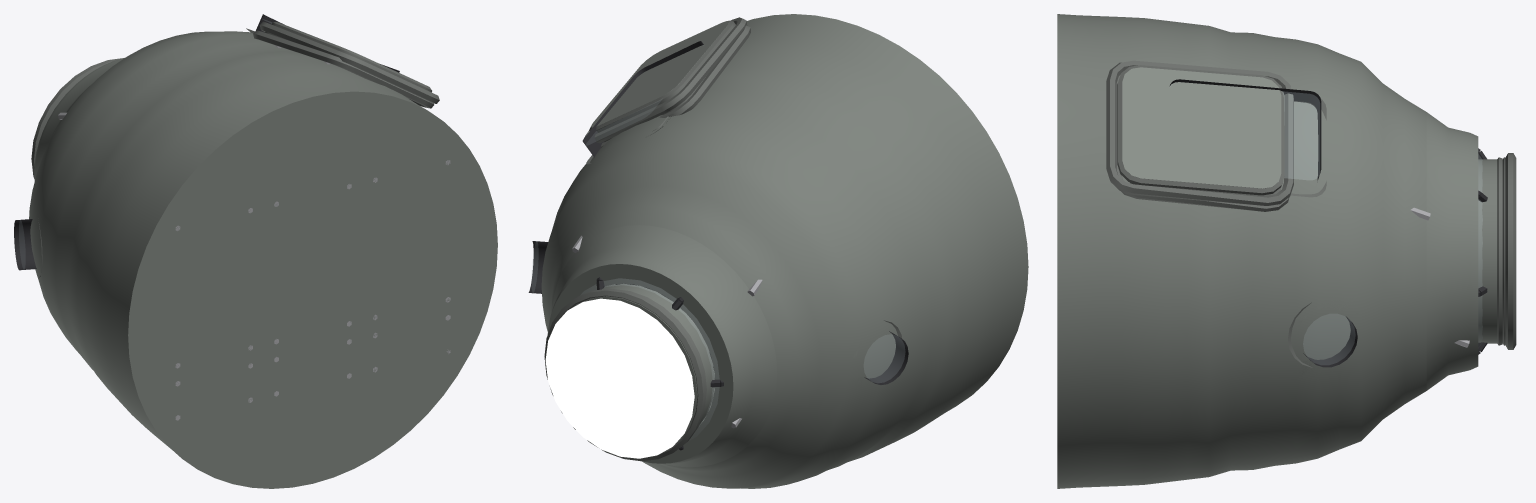
The model's file is shenzhou.glb.
The picture shows the model from 3 angles, left to right: view 1: azimuth 30°, elevation 25°; view 2: azimuth 150°, elevation 25°; view 3: azimuth 270°, elevation 25°; orthographic projection. The views are drawn at different scales.
Parts seen in each view (by area): view 1: shell_cupola, hatchframe_inward, hatchframe_side, shell_panoramic, hatchframe_top, frame_small0, door_inward; view 2: shell_cupola, shell_panoramic, plug_top, door_inward, hatchframe_top, docking, hatchframe_inward, glass_small0, glass_cupola, hatchframe_side, frame_panoramic0, frame_small0 (+4 smaller); view 3: shell_cupola, door_inward, shell_panoramic, hatchframe_inward, docking, glass_panoramic0, hatchframe_top, glass_small1, frame_panoramic0, hatchframe_side, shell_small, frame_small1 (+1 smaller).
Part boxes in pixels (left/top/right/bottom): shell_cupola: left=29, top=31, right=497, bottom=488; hatchframe_inward: left=259, top=21, right=439, bottom=103; hatchframe_side: left=253, top=30, right=434, bottom=108; shell_panoramic: left=34, top=50, right=343, bottom=180; hatchframe_top: left=31, top=58, right=122, bottom=178; frame_small0: left=14, top=219, right=42, bottom=277; door_inward: left=271, top=22, right=431, bottom=92; shell_cupola: left=541, top=14, right=1028, bottom=488; shell_panoramic: left=547, top=116, right=777, bottom=467; plug_top: left=545, top=298, right=694, bottom=458; door_inward: left=589, top=20, right=735, bottom=132; hatchframe_top: left=544, top=288, right=705, bottom=461; docking: left=588, top=283, right=714, bottom=439; hatchframe_inward: left=584, top=17, right=747, bottom=143; glass_small0: left=864, top=335, right=904, bottom=382; glass_cupola: left=581, top=279, right=718, bottom=439; hatchframe_side: left=601, top=25, right=750, bottom=147; frame_panoramic0: left=582, top=41, right=703, bottom=164; frame_small0: left=864, top=320, right=908, bottom=384; shell_cupola: left=1057, top=14, right=1426, bottom=488; door_inward: left=1117, top=65, right=1284, bottom=195; shell_panoramic: left=1282, top=112, right=1478, bottom=390; hatchframe_inward: left=1106, top=60, right=1293, bottom=205; docking: left=1478, top=157, right=1505, bottom=345; glass_panoramic0: left=1283, top=92, right=1319, bottom=179; hatchframe_top: left=1505, top=153, right=1516, bottom=349; glass_small1: left=1303, top=314, right=1354, bottom=364; frame_panoramic0: left=1169, top=79, right=1326, bottom=197; hatchframe_side: left=1116, top=75, right=1289, bottom=211; shell_small: left=1296, top=291, right=1361, bottom=380; frame_small1: left=1288, top=302, right=1357, bottom=367.
Bounding box in the file's own units: 1.75 × 1.78 × 1.71.
